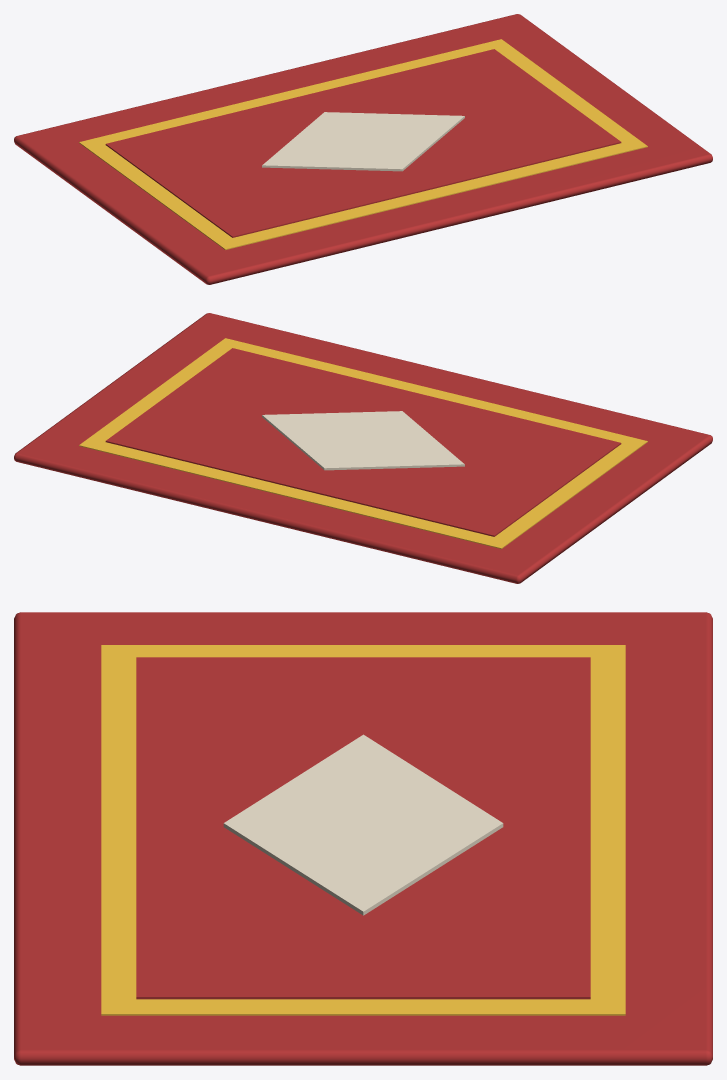
Rendered from Rug.fbx.
3 renders of one model, top to bottom at view 1: azimuth 30°, elevation 25°; view 2: azimuth 150°, elevation 25°; view 3: azimuth 270°, elevation 25°, orthographic. The views are drawn at different scales.
Visible parts, largest first — view 1: Rug; view 2: Rug; view 3: Rug.
Part boxes in pixels (x1,y1,x2,y2): Rug: (14,14,712,284); Rug: (14,313,712,583); Rug: (14,612,712,1065).
Bounding box in the file's own units: 6 × 0.15 × 4.
Materials: 1 (1 with a texture image).
